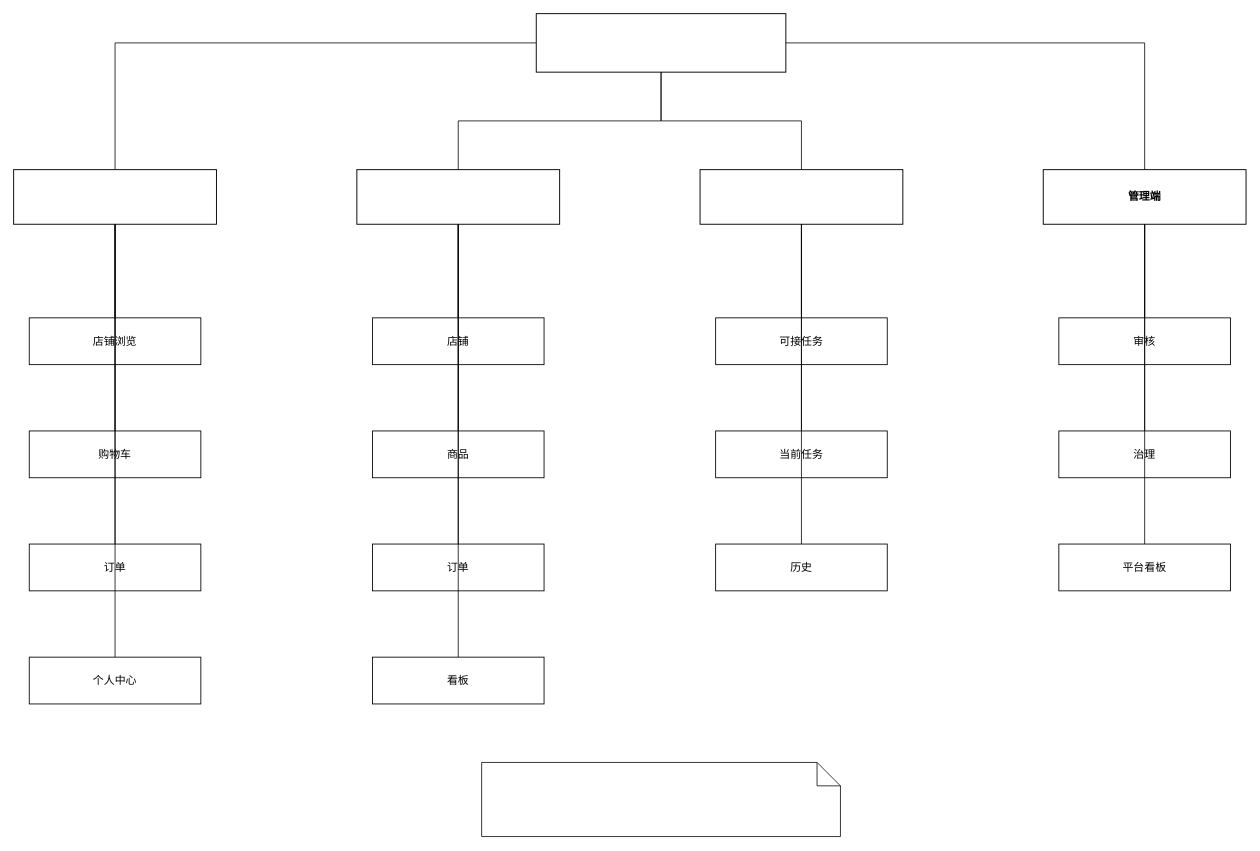
The diagram is 1260 pixels wide and 851 high, and some of its shapes have lost their labels. The box of each missing label's shape, as (x1, y1, x2, y2) in pixels:
商家端: (356, 169, 560, 224)
登录 / 角色切换: (535, 13, 786, 72)
角色切换后进入对应工作台 不保留上一角色的私有页面状态: (481, 762, 840, 837)
顾客端: (13, 169, 217, 224)
骑手端: (699, 169, 903, 224)
